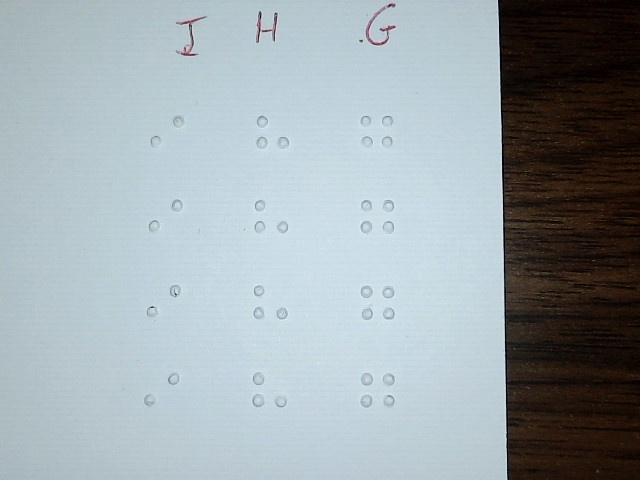G: (358, 104, 395, 172), (358, 188, 395, 256), (360, 271, 397, 339), (359, 361, 396, 429)
H: (253, 104, 290, 172), (253, 191, 290, 259), (251, 275, 288, 343), (251, 362, 288, 430)
I: (149, 105, 186, 173), (147, 187, 184, 255), (144, 360, 181, 428)
